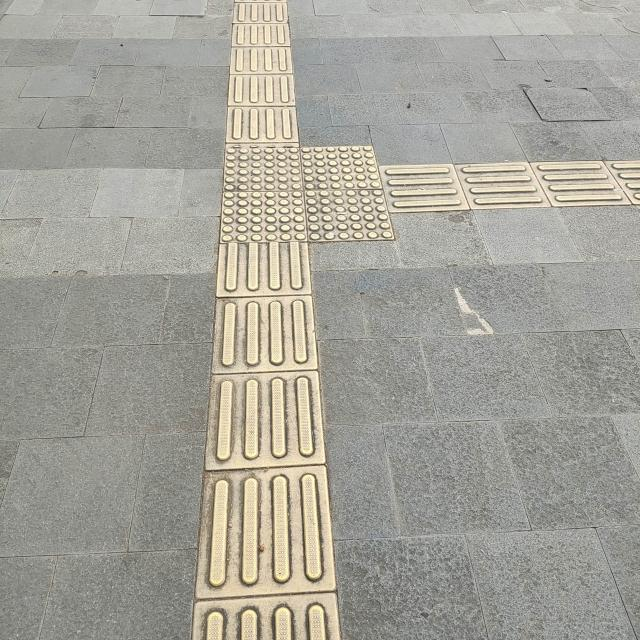lurus: (188, 253, 326, 640), (218, 0, 301, 142)
